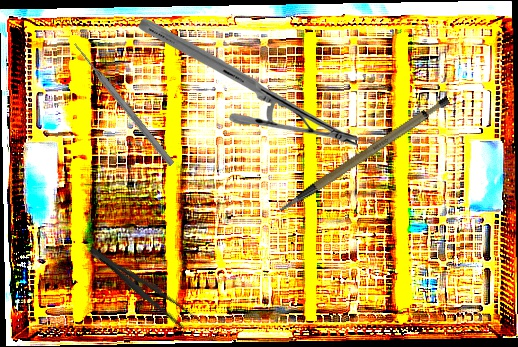Dressing Forceps: (83, 240, 203, 336)
Needle Holder: (138, 17, 361, 149)
Pusher: (70, 40, 177, 168)
Scalpel Handle: (264, 93, 462, 213)
